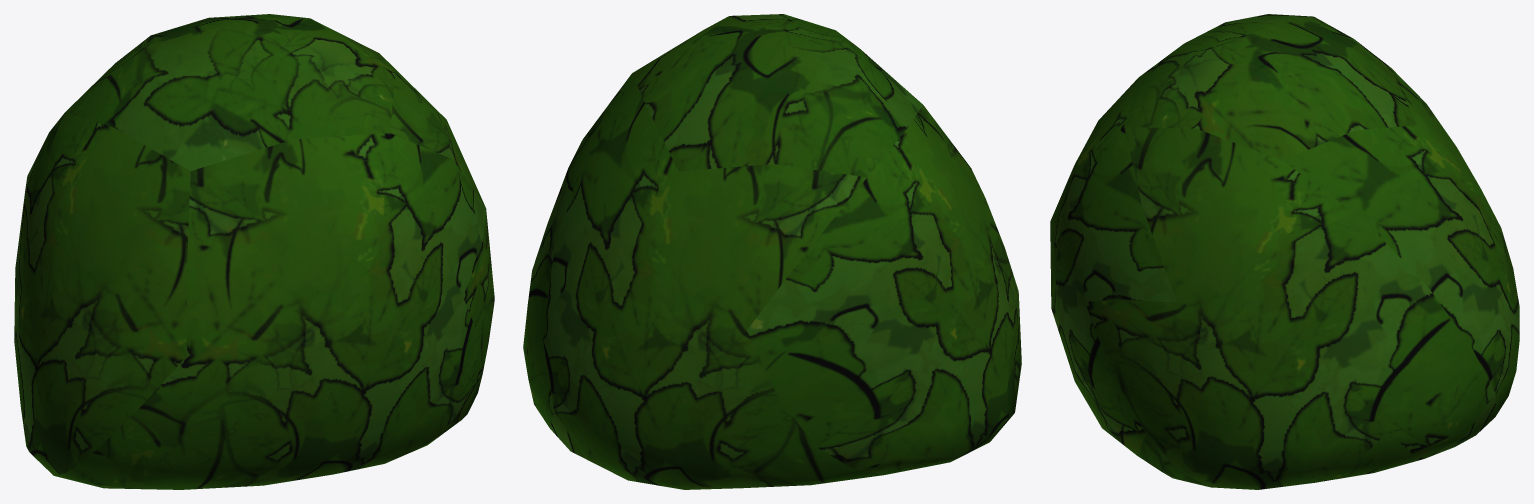
The model's file is SM_Bush_Round_2.fbx.
3 renders of one model, left to right at view 1: azimuth 30°, elevation 25°; view 2: azimuth 150°, elevation 25°; view 3: azimuth 270°, elevation 25°, orthographic. The views are drawn at different scales.
Visible parts, largest first — view 1: SM_Bush_Round_2; view 2: SM_Bush_Round_2; view 3: SM_Bush_Round_2.
Part boxes in pixels (<box>): SM_Bush_Round_2: <box>14,14,494,489</box>; SM_Bush_Round_2: <box>523,14,1021,489</box>; SM_Bush_Round_2: <box>1050,14,1519,489</box>.
Bounding box in the file's own units: 2.36 × 2.29 × 2.08.
